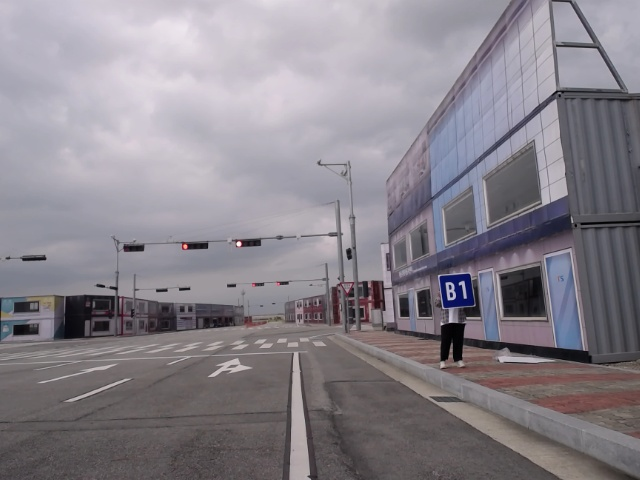delivery_b1: (438, 273, 475, 309)
red_4: (236, 239, 262, 247), (182, 242, 208, 249), (277, 281, 289, 286), (252, 283, 264, 286)
